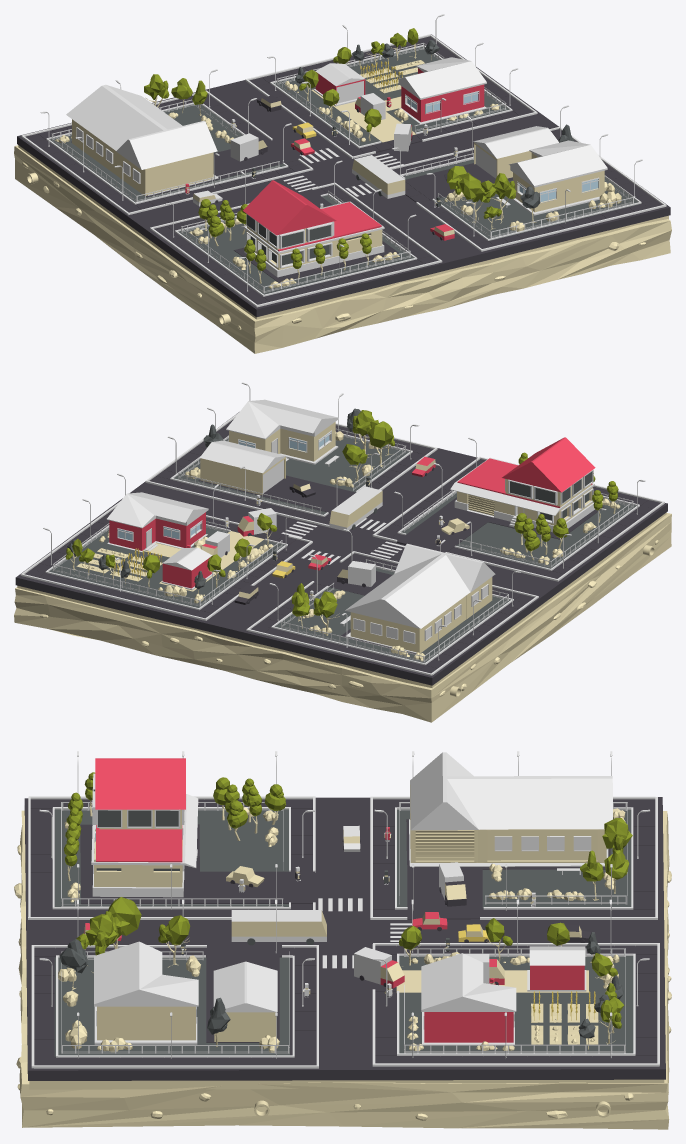
The model's file is Cartoon_Low_Poly_City_Suburbs_Buildings.glb.
3 views of the same model, one above another, from view 1: azimuth 30°, elevation 25°; view 2: azimuth 150°, elevation 25°; view 3: azimuth 270°, elevation 25° (orthographic). The views are drawn at different scales.
Parts seen in each view (by area): view 1: Floor_Ground_0, Asplalt_4_road markings_0, Asplalt_2_White_1_0, Cube_1_32_Grass_0, Cube_1_13_Grass_0, Ground_Grass_0, Asplalt_1_White_1_0, Cube302_White_1_0, Cube_12_2_House_Red_0, Ground_2_Grass_0, Cube75_White_1_0, Asplalt_1_Building_Yellow_1_0 (+25 smaller); view 2: Floor_Ground_0, Asplalt_4_road markings_0, Asplalt_2_White_1_0, Cube_1_32_Grass_0, Ground_Grass_0, Cube_1_13_Grass_0, Ground_2_Grass_0, Cube302_White_1_0, Cube_12_2_House_Red_0, Asplalt_6_road markings_0, Cube75_White_1_0, Asplalt_Ground_0 (+27 smaller); view 3: Asplalt_4_road markings_0, Floor_Ground_0, Cube_1_32_Grass_0, Asplalt_2_White_1_0, Ground_Grass_0, Cube_1_13_Grass_0, Ground_2_Grass_0, Asplalt_6_road markings_0, Cube302_White_1_0, Cube_12_2_House_Red_0, Cube75_White_1_0, Asplalt_1_White_1_0 (+35 smaller).
Part boxes in pixels (left/top/right/bottom): Floor_Ground_0: left=14, top=145, right=671, bottom=353; Asplalt_4_road markings_0: left=17, top=34, right=670, bottom=317; Asplalt_2_White_1_0: left=66, top=84, right=182, bottom=150; Cube_1_32_Grass_0: left=273, top=47, right=508, bottom=146; Cube_1_13_Grass_0: left=404, top=159, right=640, bottom=240; Ground_Grass_0: left=178, top=195, right=413, bottom=294; Asplalt_1_White_1_0: left=116, top=121, right=217, bottom=169; Cube302_White_1_0: left=509, top=140, right=607, bottom=187; Cube_12_2_House_Red_0: left=243, top=180, right=336, bottom=235; Ground_2_Grass_0: left=49, top=104, right=284, bottom=202; Cube75_White_1_0: left=398, top=57, right=486, bottom=99; Asplalt_1_Building_Yellow_1_0: left=119, top=152, right=213, bottom=195; Floor_Ground_0: left=14, top=513, right=671, bottom=722; Asplalt_4_road markings_0: left=15, top=412, right=667, bottom=685; Asplalt_2_White_1_0: left=345, top=554, right=470, bottom=628; Cube_1_32_Grass_0: left=49, top=526, right=284, bottom=607; Ground_Grass_0: left=401, top=492, right=636, bottom=568; Cube_1_13_Grass_0: left=174, top=436, right=408, bottom=514; Ground_2_Grass_0: left=275, top=567, right=510, bottom=663; Cube302_White_1_0: left=226, top=399, right=338, bottom=439; Cube_12_2_House_Red_0: left=502, top=437, right=595, bottom=492; Asplalt_6_road markings_0: left=396, top=497, right=603, bottom=552; Cube75_White_1_0: left=106, top=492, right=208, bottom=528; Asplalt_Ground_0: left=17, top=512, right=666, bottom=687; Asplalt_4_road markings_0: left=24, top=797, right=665, bottom=1080; Floor_Ground_0: left=18, top=810, right=669, bottom=1129; Cube_1_32_Grass_0: left=399, top=956, right=633, bottom=1053; Asplalt_2_White_1_0: left=447, top=776, right=612, bottom=829; Ground_Grass_0: left=55, top=809, right=288, bottom=906; Cube_1_13_Grass_0: left=54, top=957, right=289, bottom=1057; Ground_2_Grass_0: left=397, top=809, right=631, bottom=908; Asplalt_6_road markings_0: left=80, top=824, right=315, bottom=904; Cube302_White_1_0: left=94, top=941, right=198, bottom=1006; Cube_12_2_House_Red_0: left=95, top=758, right=185, bottom=809; Cube75_White_1_0: left=421, top=953, right=516, bottom=1011; Asplalt_1_White_1_0: left=410, top=752, right=478, bottom=830.
Size of the model in its own units: 2405 by 600 by 2381.
